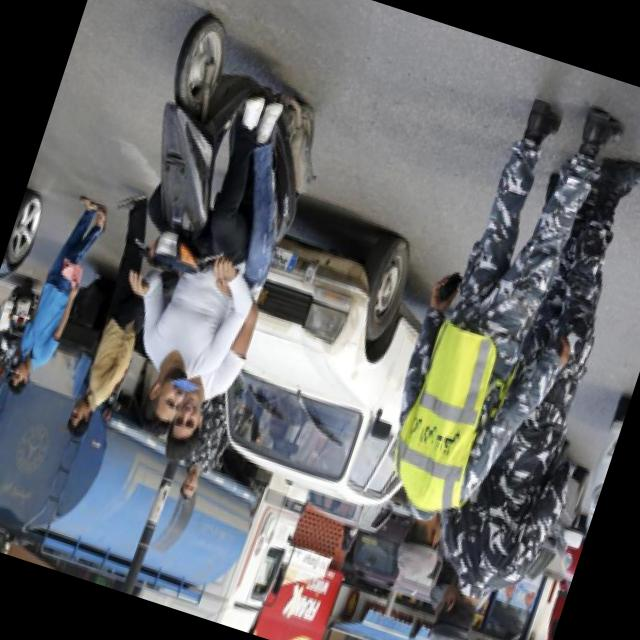bareface: (154, 382, 213, 473), (136, 354, 193, 434), (62, 391, 100, 442), (6, 354, 35, 396), (176, 464, 202, 502)
